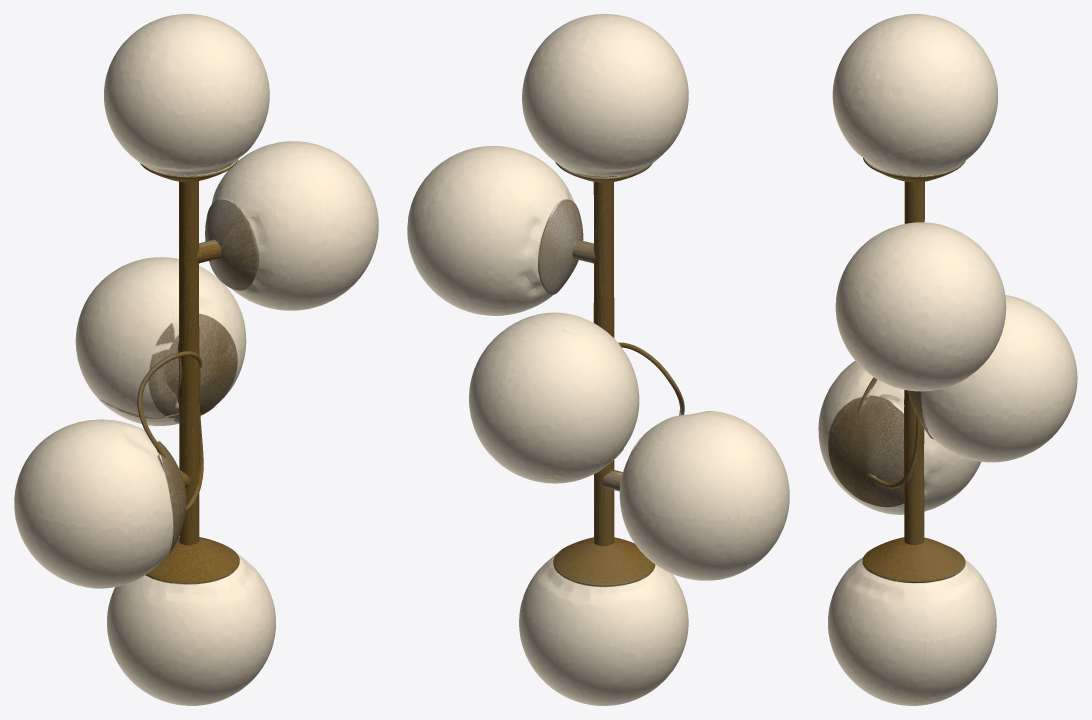
Rendered from the-crafted-gesture-designer-5-globe-wall-lamp-luxury-bubble.glb.
3 renders of one model, left to right at view 1: azimuth 30°, elevation 25°; view 2: azimuth 150°, elevation 25°; view 3: azimuth 270°, elevation 25°, orthographic.
Parts seen in each view (by area): view 1: Mesh_0; view 2: Mesh_0; view 3: Mesh_0.
Part boxes in pixels (box(x1,y1,x2,y2)): Mesh_0: box(14, 14, 378, 705); Mesh_0: box(407, 14, 789, 705); Mesh_0: box(818, 14, 1077, 705).
Size of the model in its own units: 1.03 by 1.9 by 0.6623.
1 material, 1 textured.
